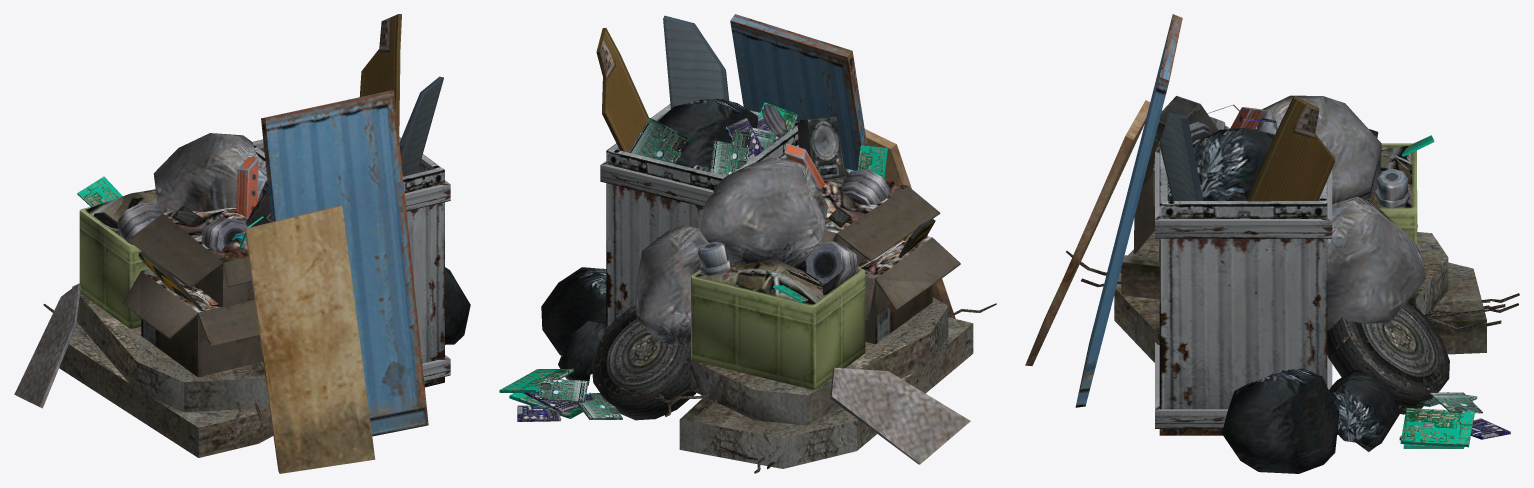
File: Prop_Garbage01_v2.glb
3 renders of one model, left to right at view 1: azimuth 30°, elevation 25°; view 2: azimuth 150°, elevation 25°; view 3: azimuth 270°, elevation 25°, orthographic. The views are drawn at different scales.
Parts seen in each view (by area): view 1: garbage_01; view 2: garbage_01; view 3: garbage_01.
Boxes of the visible parts, <box> form: garbage_01: <box>14,14,470,473</box>; garbage_01: <box>499,14,996,473</box>; garbage_01: <box>1025,14,1519,473</box>.
Size of the model in its own units: 3.07 by 2.27 by 2.85.
1 material, 1 textured.
